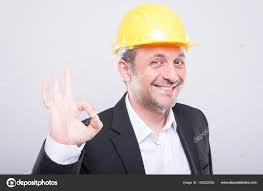Person_wearing_helmet: (105, 6, 193, 76)
